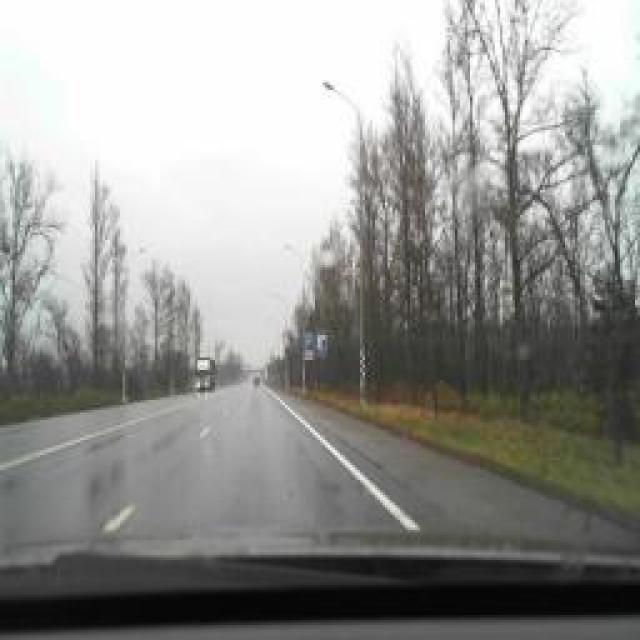sign: (304, 331, 314, 351)
